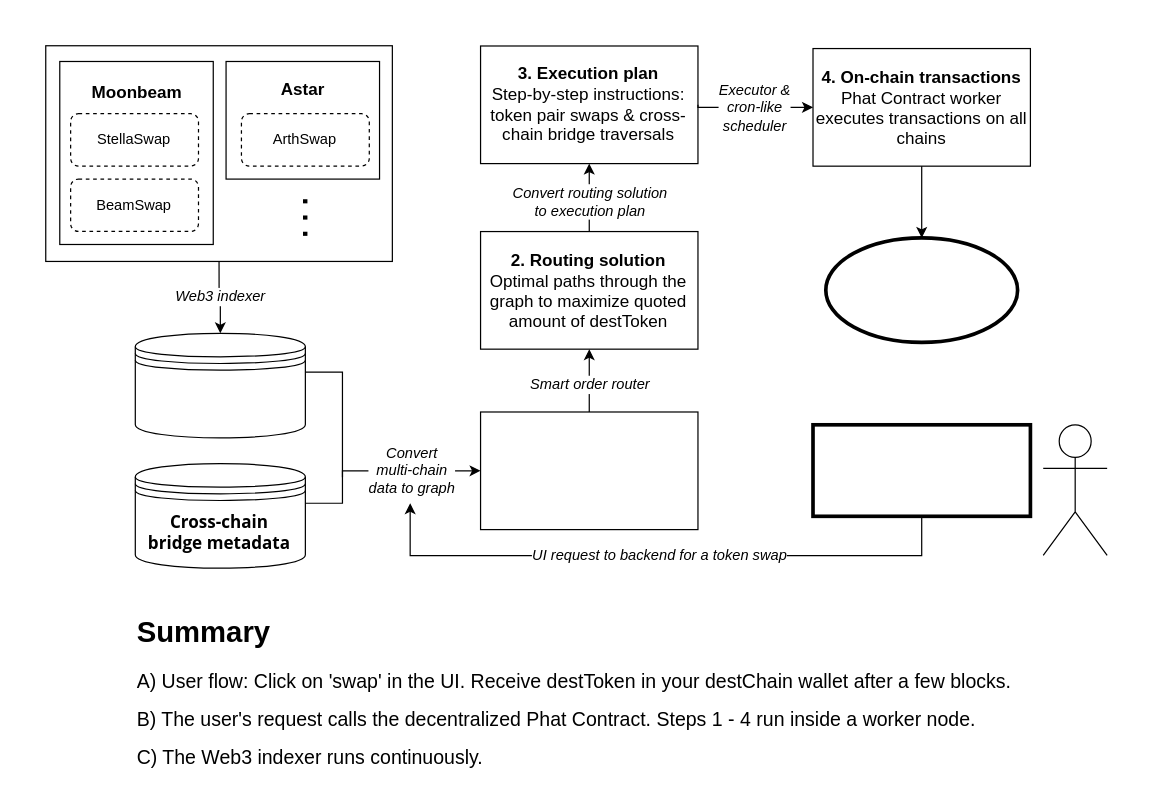
This 1152x810 diagram has some shape labels left out. The centre of each missing label's shape, as x and y in pixels:
"1. Network graph Nodes = tokens, Edges = liquidity pools & bridges" goes at point 588,470.
"Completed PrivaDEX swap" goes at point 921,289.
"DEX price feed Postgres" goes at point 219,385.
"Swap UI Inputs: Source and dest token & chain" goes at point 921,470.
